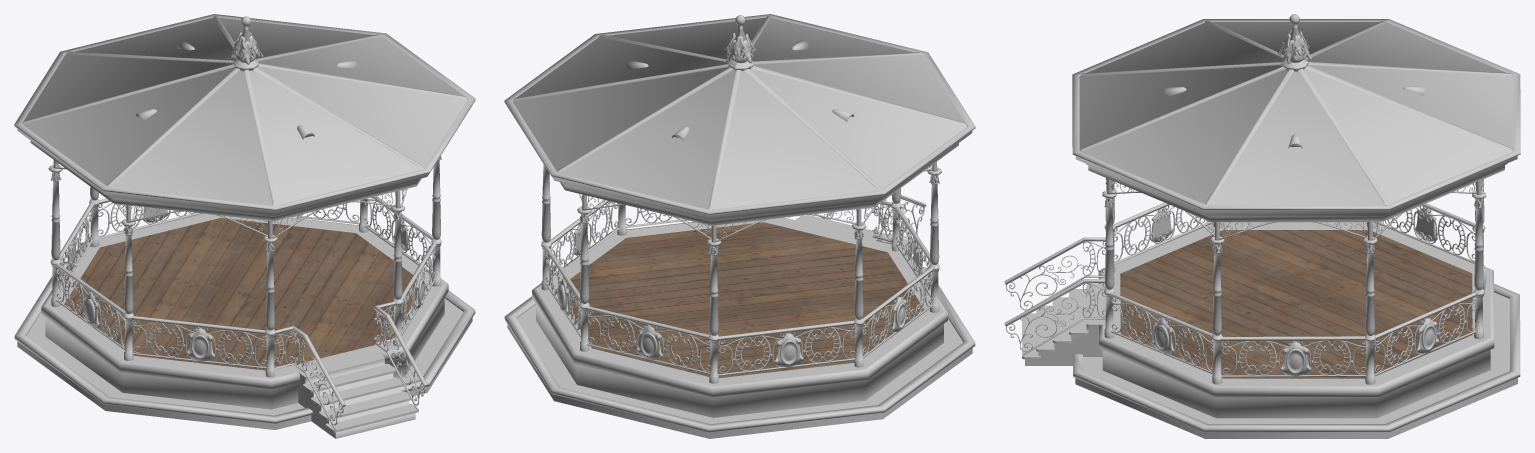
Rendered from ENV_Kiosk.fbx.
3 renders of one model, left to right at view 1: azimuth 30°, elevation 25°; view 2: azimuth 150°, elevation 25°; view 3: azimuth 270°, elevation 25°, orthographic. The views are drawn at different scales.
Parts seen in each view (by area): view 1: ENV_Kiosk; view 2: ENV_Kiosk; view 3: ENV_Kiosk.
Part boxes in pixels (x1,y1,x2,y2): ENV_Kiosk: [14, 14, 475, 438]; ENV_Kiosk: [504, 14, 975, 438]; ENV_Kiosk: [1004, 14, 1520, 438].
Bounding box in the file's own units: 961 × 783 × 1107.
